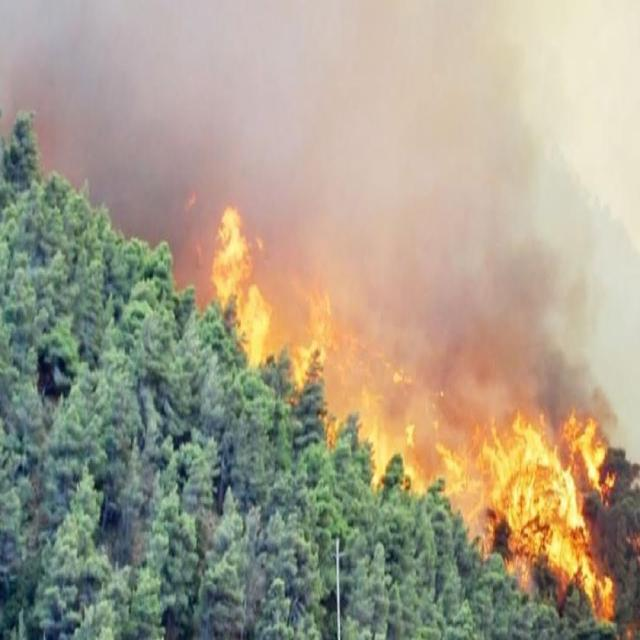Fire: (471, 425, 628, 604), (345, 406, 418, 509), (211, 222, 268, 346), (288, 304, 340, 416), (434, 446, 469, 502)
Smoke: (225, 11, 640, 410), (24, 10, 222, 236)
